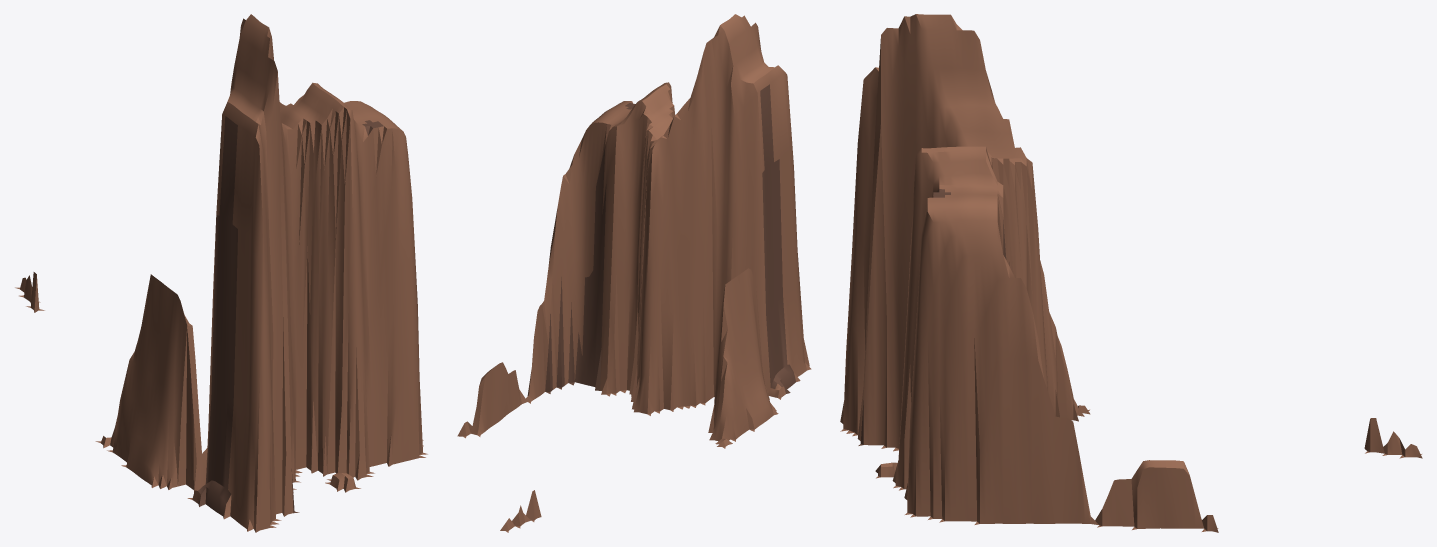
The model's file is fulgoran-ruin-stonehenge.glb.
3 renders of one model, left to right at view 1: azimuth 30°, elevation 25°; view 2: azimuth 150°, elevation 25°; view 3: azimuth 270°, elevation 25°, orthographic. The views are drawn at different scales.
Visible parts, largest first — view 1: body; view 2: body; view 3: body.
Part boxes in pixels (x1,y1,x2,y2): body: [15, 14, 427, 532]; body: [457, 14, 811, 532]; body: [840, 14, 1422, 532].
Bounding box in the file's own units: 3.2 × 5.12 × 6.25.
